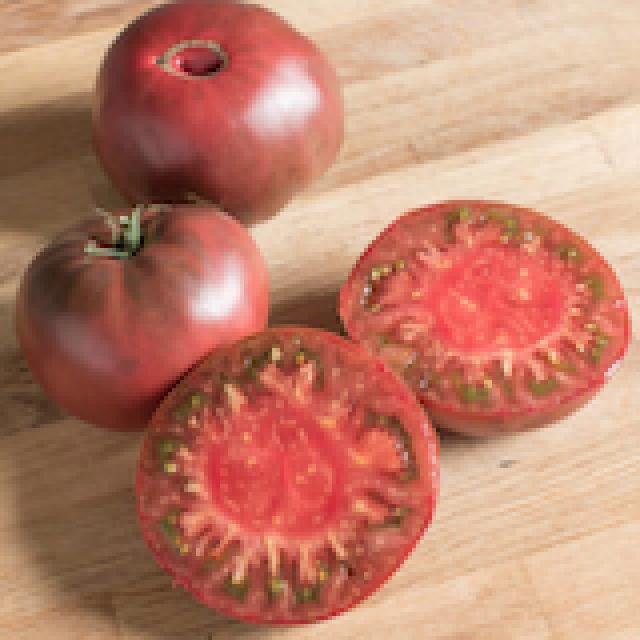kirmizi: (46, 5, 334, 413)
